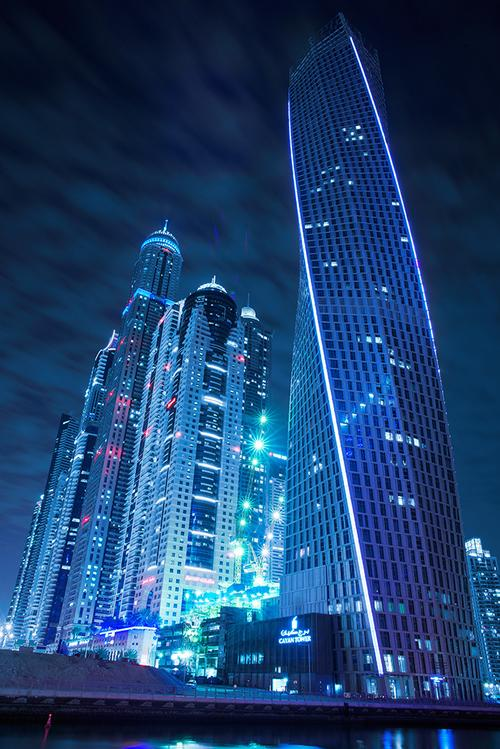buildings: (255, 74, 483, 715), (61, 240, 249, 693), (268, 37, 442, 497), (145, 277, 258, 674)
